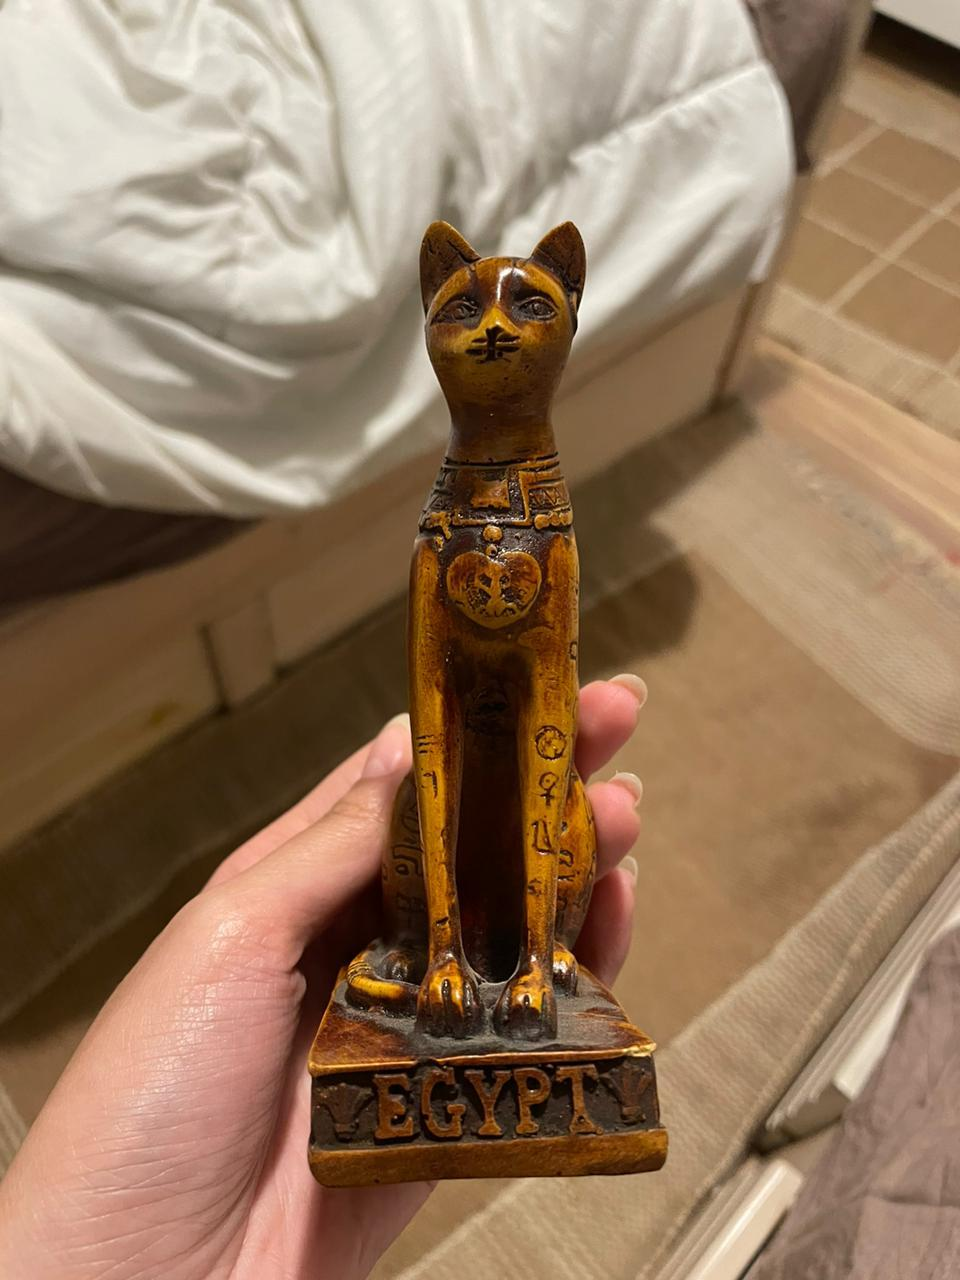Past: (303, 216, 670, 1183)
